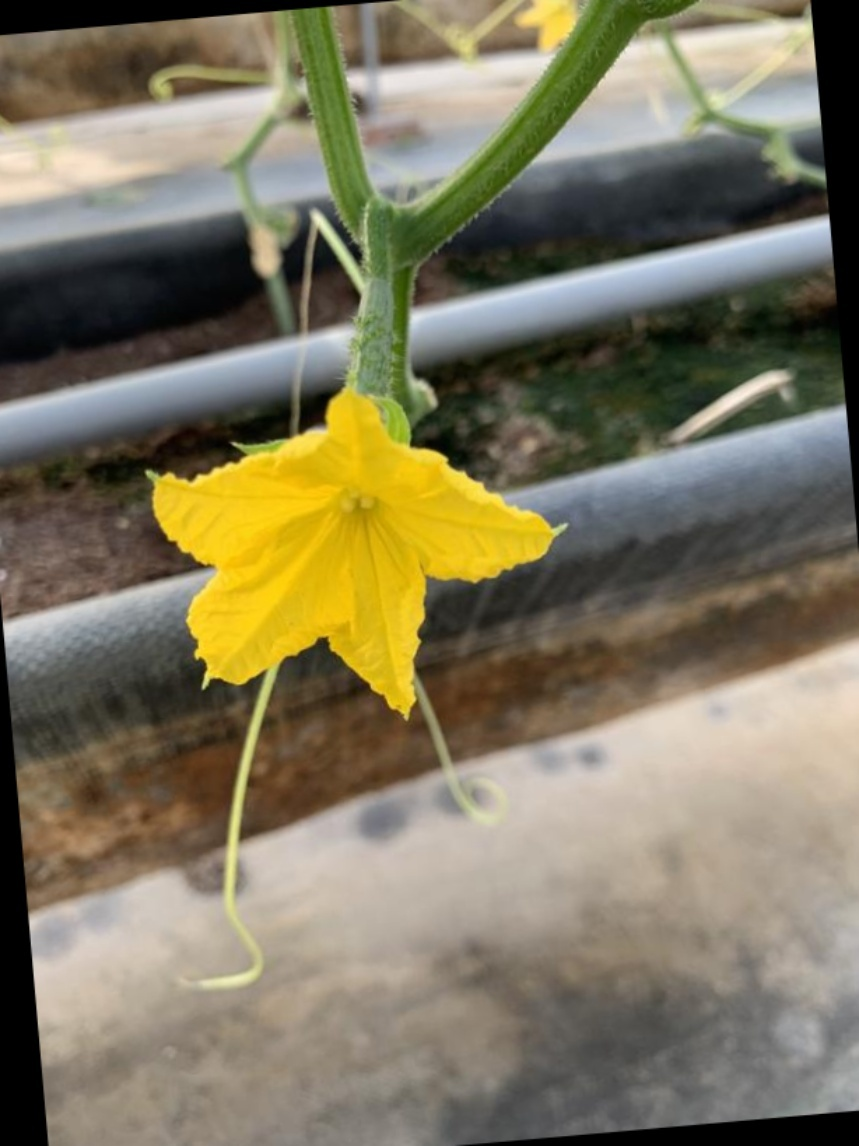flowering: (132, 245, 561, 732)
mature: (131, 246, 567, 733)
